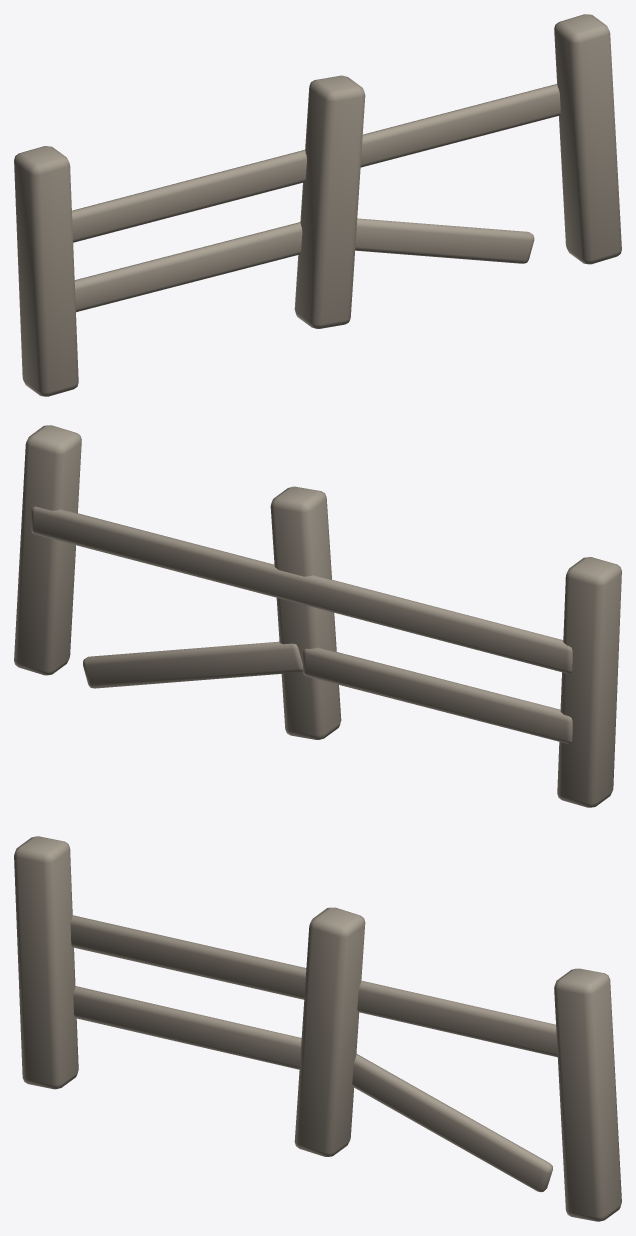
Rendered from Fence_Broken.fbx.
The picture shows the model from 3 angles, top to bottom: view 1: azimuth 30°, elevation 25°; view 2: azimuth 150°, elevation 25°; view 3: azimuth 330°, elevation 25°; orthographic projection.
Parts seen in each view (by area): view 1: Fence_Broken; view 2: Fence_Broken; view 3: Fence_Broken.
Part boxes in pixels (bbox=[...]): Fence_Broken: bbox=[14, 14, 621, 396]; Fence_Broken: bbox=[14, 425, 621, 807]; Fence_Broken: bbox=[14, 836, 621, 1221].
Size of the model in its own units: 3.27 by 1.25 by 0.235.
